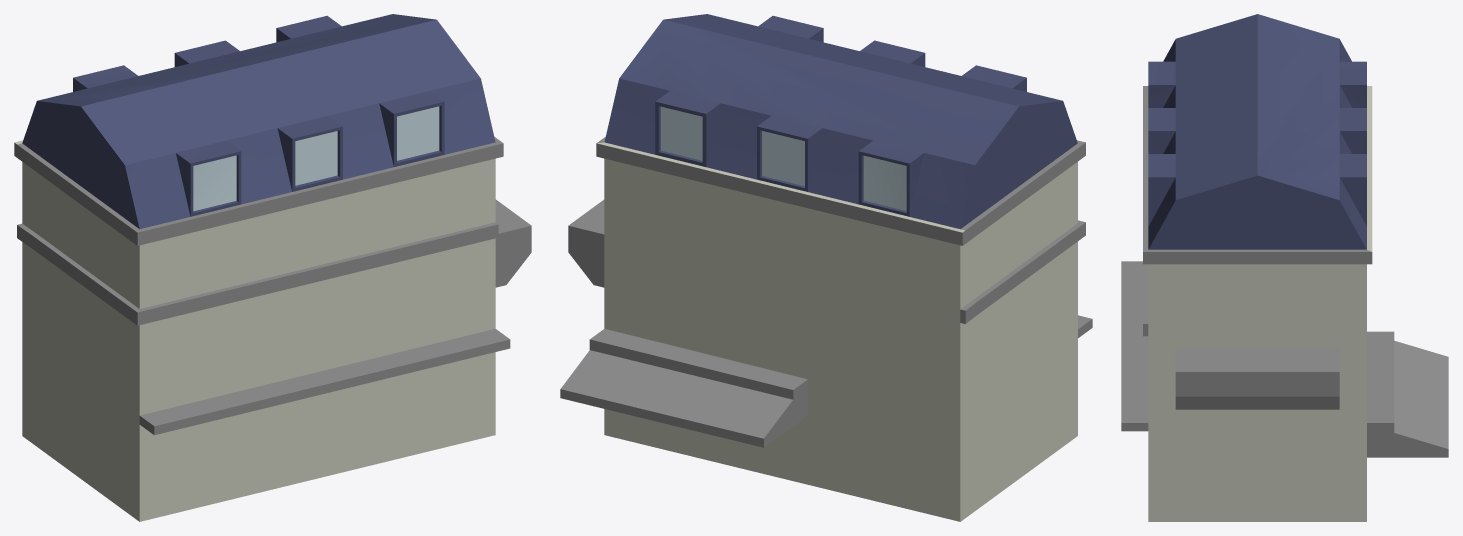
Rendered from paris_building_scaled_tall_05.fbx.
The picture shows the model from 3 angles, left to right: view 1: azimuth 30°, elevation 25°; view 2: azimuth 150°, elevation 25°; view 3: azimuth 270°, elevation 25°; orthographic projection. The views are drawn at different scales.
Visible parts, largest first — view 1: Cube-col; view 2: Cube-col; view 3: Cube-col.
Part boxes in pixels (x1,y1,x2,y2): Cube-col: (14,14,531,521); Cube-col: (560,14,1092,521); Cube-col: (1121,14,1448,521).
Bounding box in the file's own units: 1620 × 1400 × 1200.
